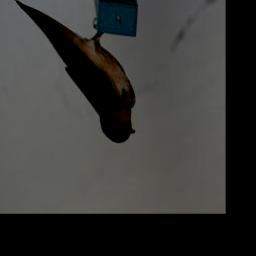Swallow: (13, 0, 139, 147)
